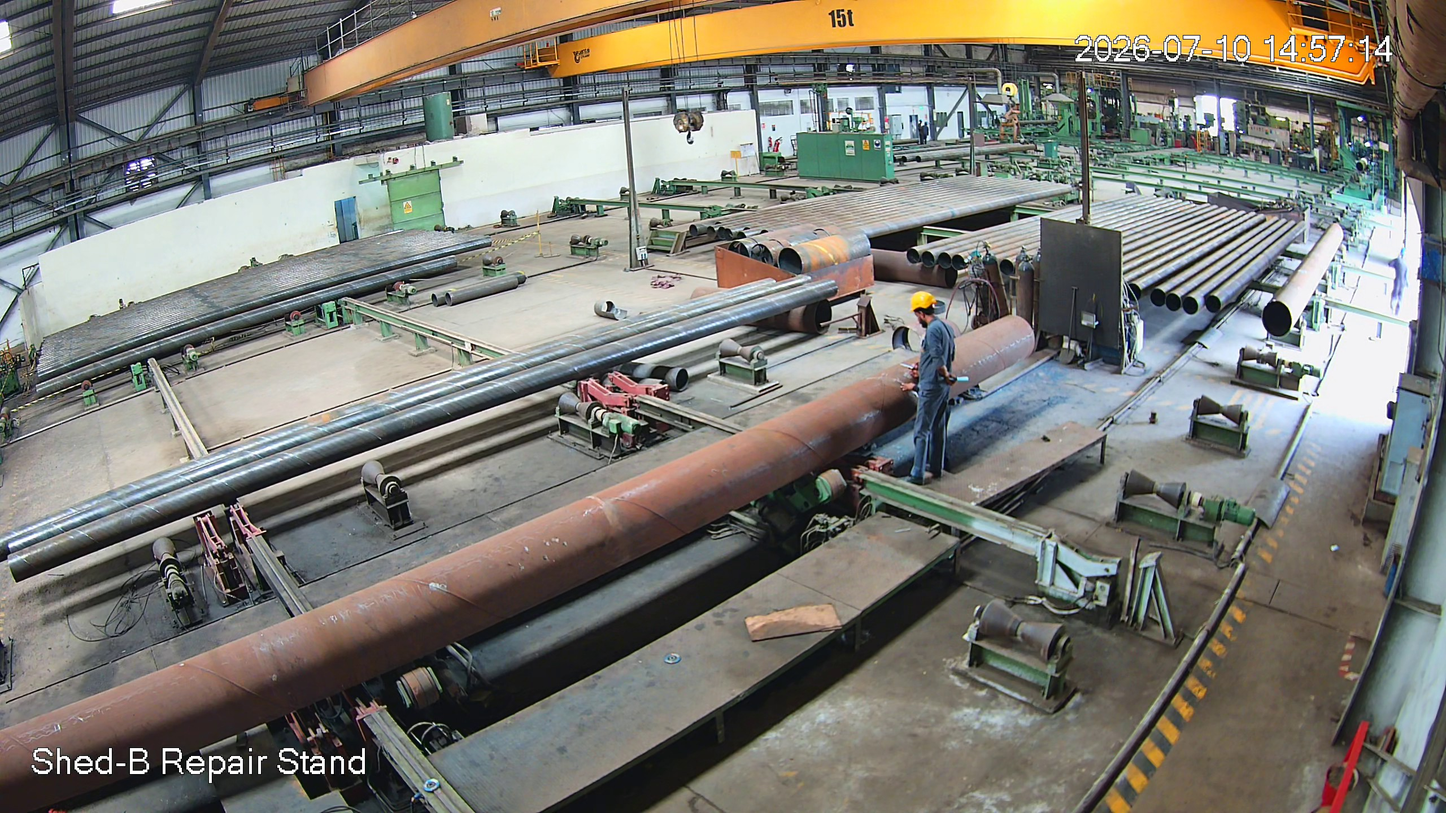Helmet: (907, 284, 961, 344)
Person: (899, 288, 963, 498)
